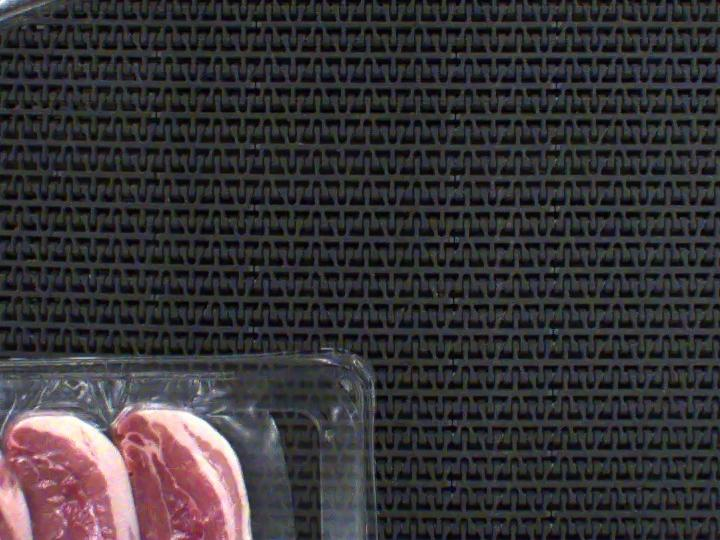unsealed: (0, 372, 310, 540)
